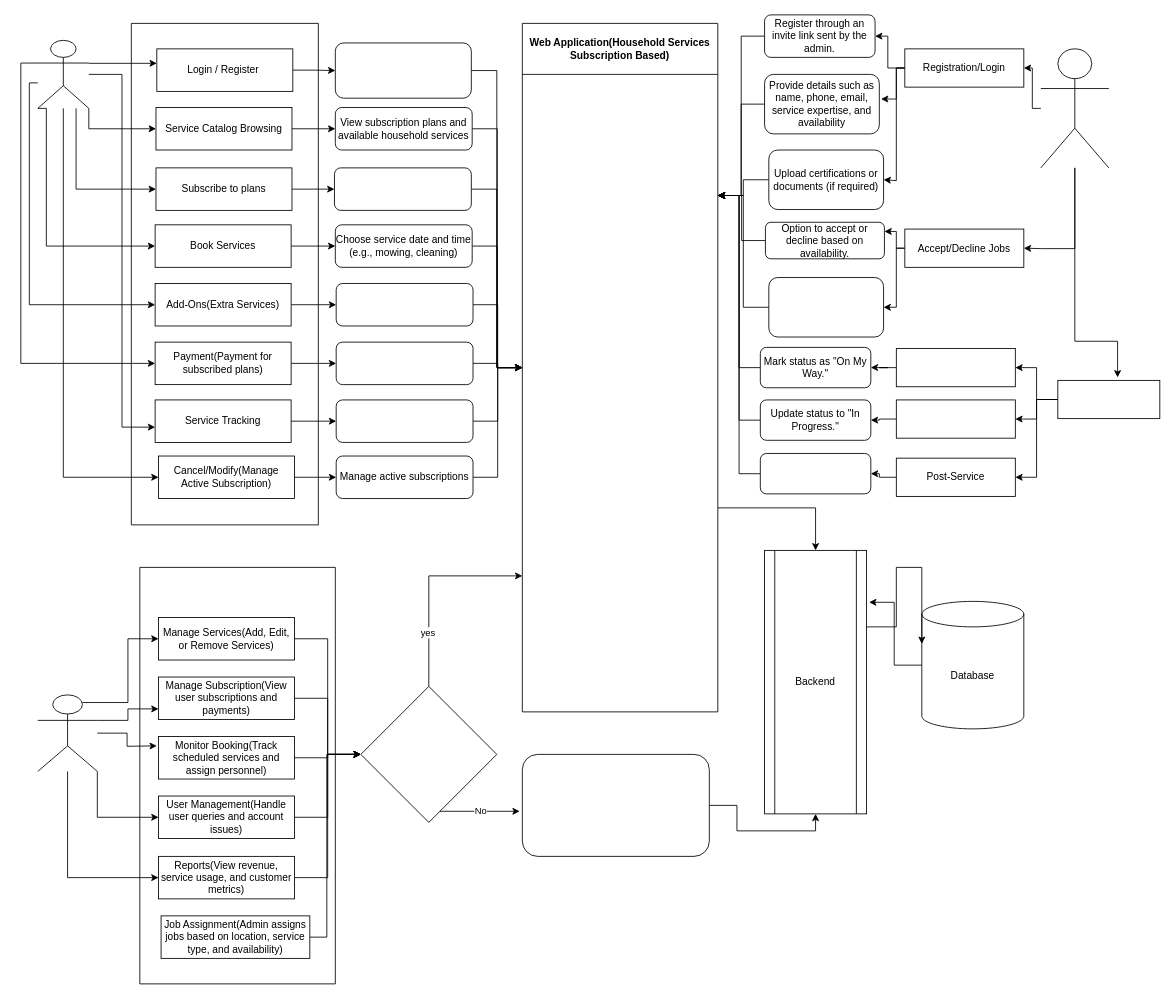
Image size: 1175x999. Some labels were removed from this diagram. The box of each missing label's shape, as (x1, y1, x2, y2) in pixels:
Admin: (37, 694, 97, 771)
Any other way like framework admin panel to manage: (521, 754, 709, 856)
Create an account or log in via email/password or social accounts.: (334, 42, 471, 98)
During-Service: (895, 399, 1015, 438)
Is admin profile implemented: (360, 686, 497, 822)
Mark Job as "Completed": (759, 453, 871, 494)
Pay via credit card or wallet for subscriptions and add-ons.: (335, 341, 473, 385)
Pre-Service: (895, 348, 1015, 387)
Select a subscription (e.g., monthly pest control): (334, 167, 471, 210)
Select additional services (e.g., plumbing, landscaping).: (335, 283, 473, 326)
Service Execution: (1057, 380, 1160, 419)
Service Providers: (1040, 48, 1109, 168)
Service type, location, time, and user preferences.: (768, 277, 884, 337)
Track upcoming and completed services: (335, 399, 473, 442)
user: (37, 40, 89, 108)
